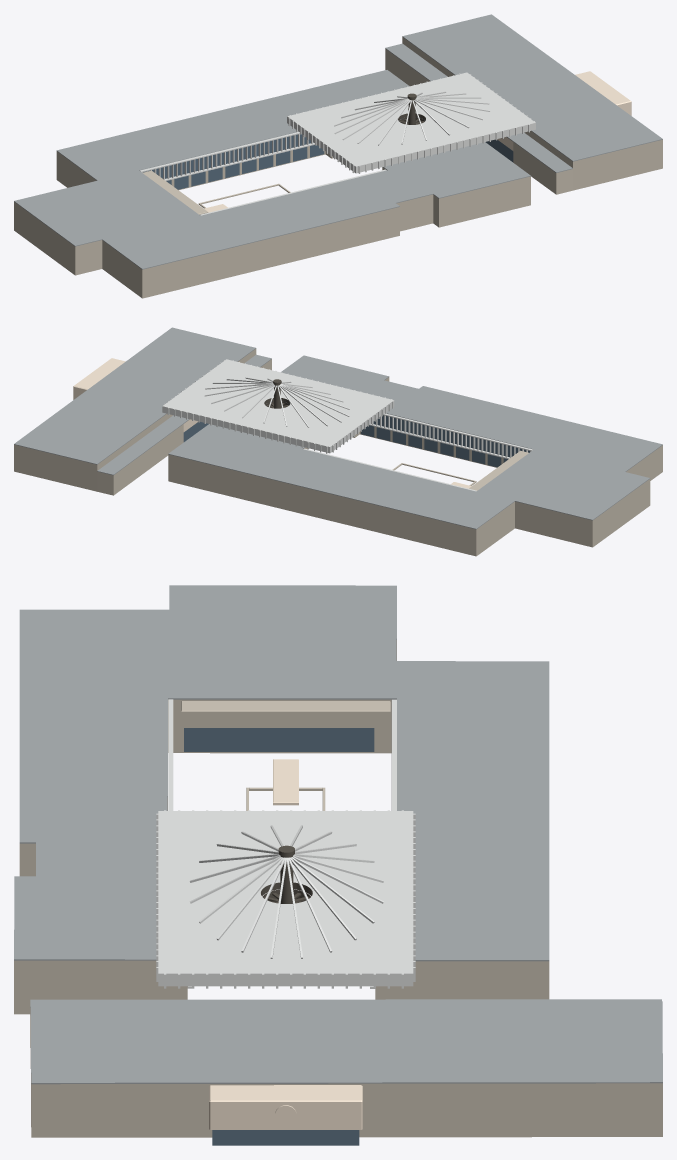
The model's file is mexico-city-anthropology-museum.glb.
The picture shows the model from 3 angles, top to bottom: view 1: azimuth 30°, elevation 25°; view 2: azimuth 150°, elevation 25°; view 3: azimuth 270°, elevation 25°; orthographic projection. The views are drawn at different scales.
Parts seen in each view (by area): view 1: Museo Nacional de Antropología; view 2: Museo Nacional de Antropología; view 3: Museo Nacional de Antropología.
Part boxes in pixels (x1,y1,x2,y2): Museo Nacional de Antropología: (14,14,662,298); Museo Nacional de Antropología: (14,327,662,556); Museo Nacional de Antropología: (14,585,662,1145).
Bounding box in the file's own units: 261 × 29.4 × 139.
